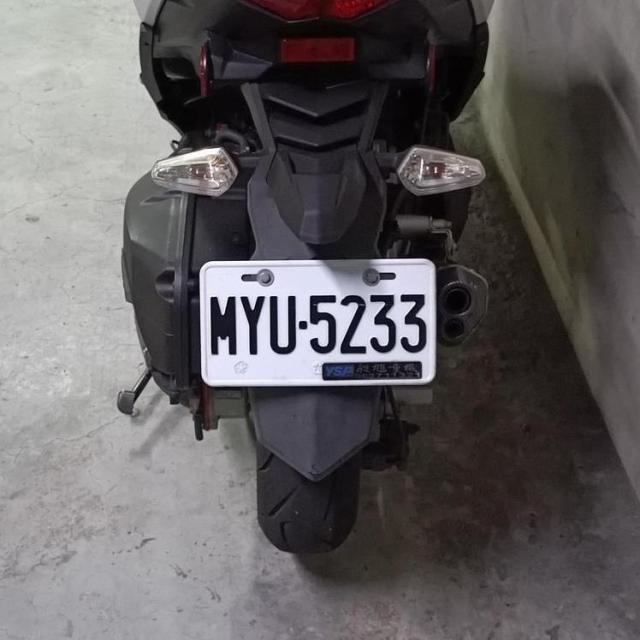W: (198, 256, 439, 386)
